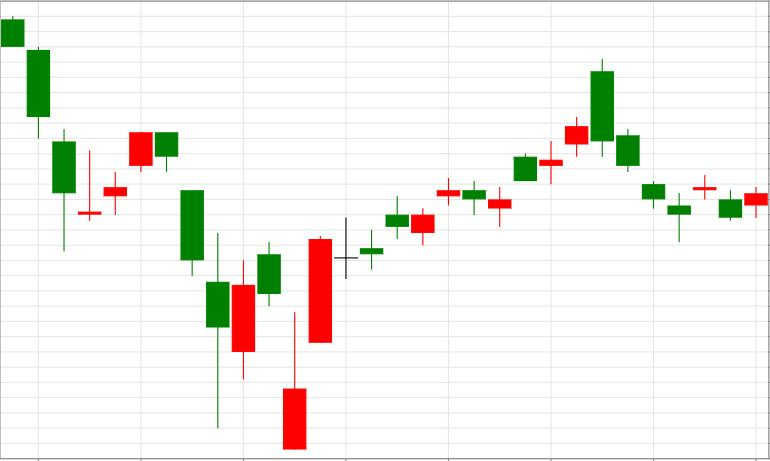bearish_engulfing_fall: (489, 59, 614, 228)
three_black_crows_fall: (79, 131, 229, 429)
